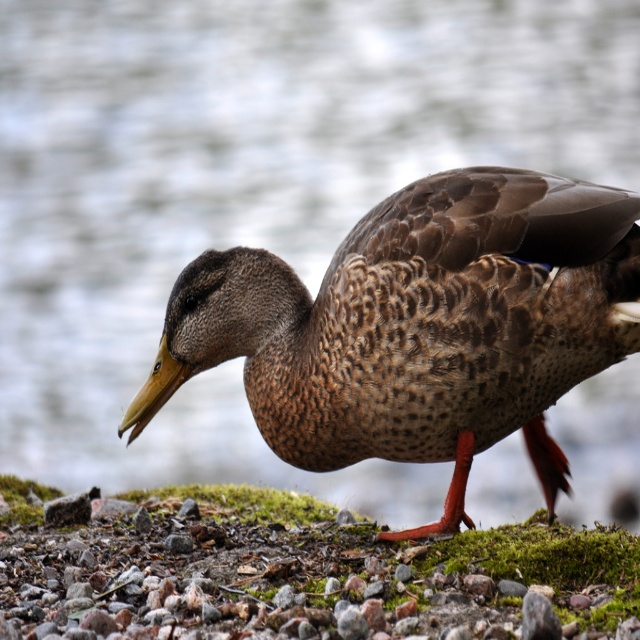Duck: (134, 149, 640, 525)
